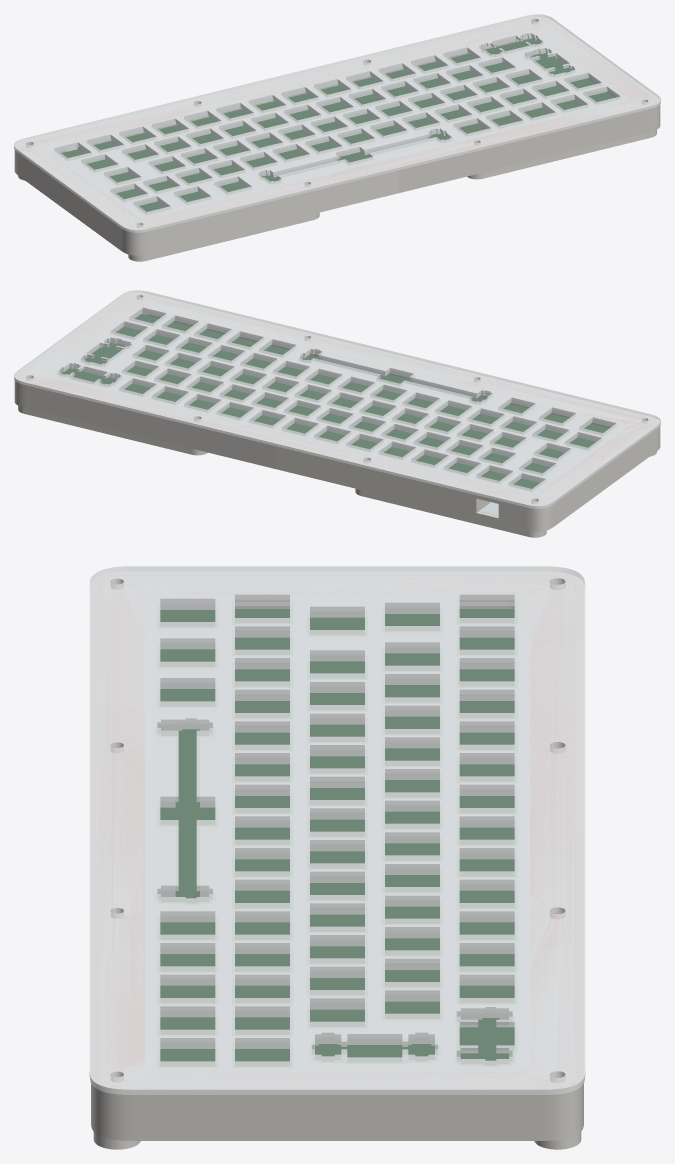
The picture shows the model from 3 angles, top to bottom: view 1: azimuth 30°, elevation 25°; view 2: azimuth 150°, elevation 25°; view 3: azimuth 270°, elevation 25°; orthographic projection. The views are drawn at different scales.
Parts seen in each view (by area): view 1: p0_top, p1_stiffener, p5_pcb, p2_frame_left, p3_frame_right, p6_foot_1, p8_foot_3; view 2: p0_top, p1_stiffener, p5_pcb, p2_frame_left, p3_frame_right, p7_foot_2, p9_foot_4; view 3: p0_top, p1_stiffener, p5_pcb, p3_frame_right, p2_frame_left.
Boxes of the visible parts, x1,y1,x2,y2 form: p0_top: (14, 14, 660, 232); p1_stiffener: (19, 21, 651, 228); p5_pcb: (61, 38, 614, 211); p2_frame_left: (14, 80, 398, 255); p3_frame_right: (277, 17, 660, 192); p6_foot_1: (128, 212, 319, 261); p8_foot_3: (467, 129, 656, 179); p0_top: (14, 290, 660, 508); p1_stiffener: (21, 296, 648, 505); p5_pcb: (61, 314, 609, 488); p2_frame_left: (276, 356, 660, 531); p3_frame_right: (14, 293, 397, 468); p7_foot_2: (355, 488, 546, 537); p9_foot_4: (18, 405, 207, 455); p0_top: (89, 566, 585, 1094); p1_stiffener: (100, 576, 574, 1090); p5_pcb: (160, 609, 514, 1061); p3_frame_right: (91, 833, 583, 1140); p2_frame_left: (91, 572, 583, 832).
Size of the model in its own units: 315 by 18.3 by 126.
